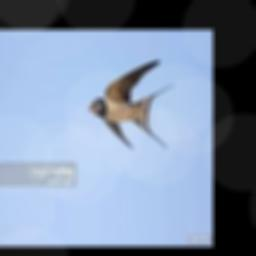Swallow: (88, 59, 175, 149)
